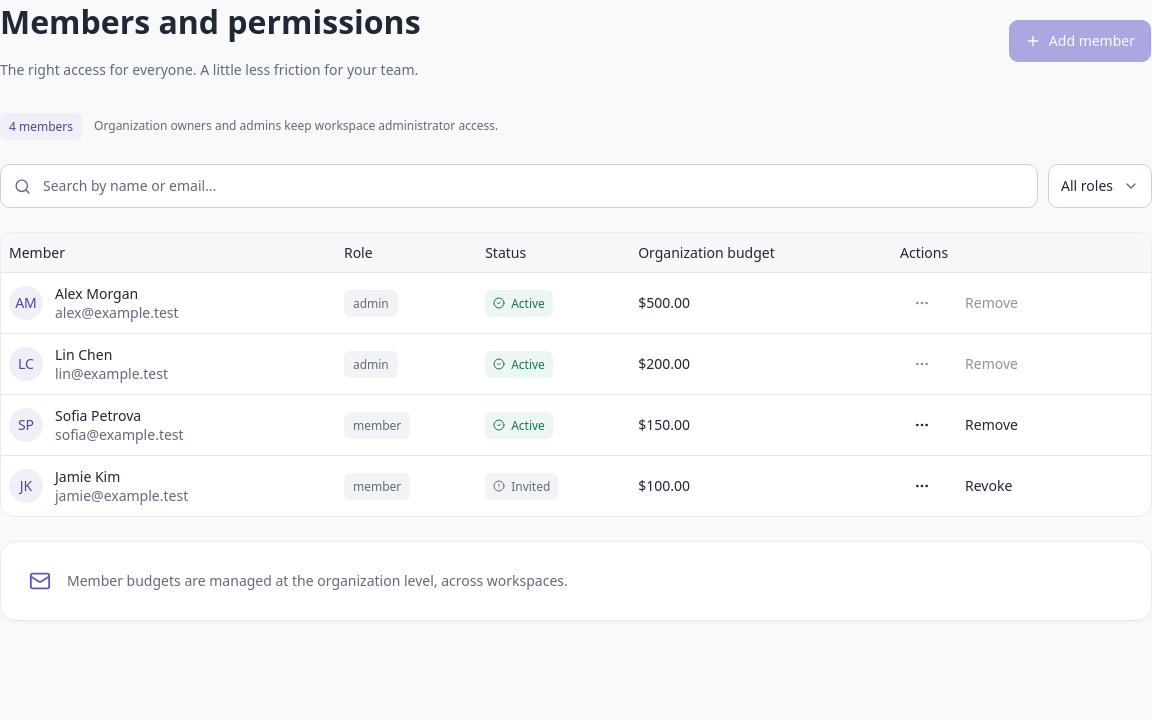
Workspace membership boundaries › editing a workspace role does not overwrite the organization role
This screenshot has width=1152, height=720.
Later steps or results of the test are not shown.
Click the button named "Edit Sofia Petrova" at (922,425), box [900,403,944,447]
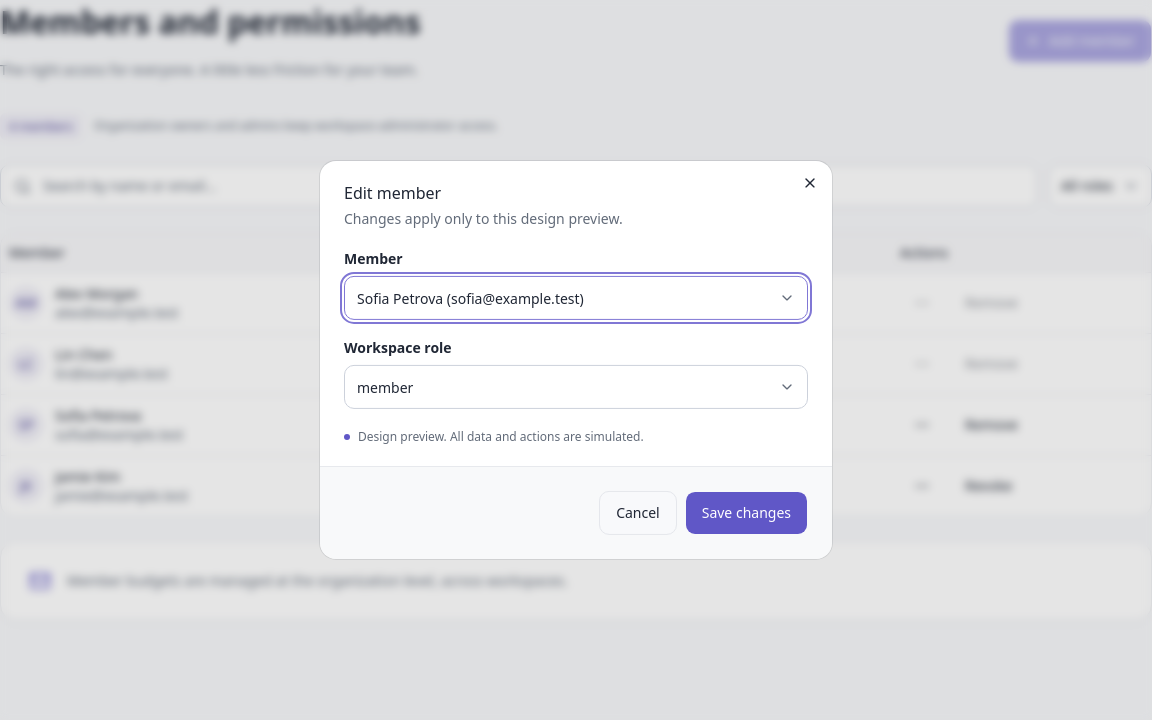
Click the dropdown named "role" at (385,387), box [344,365,808,409]
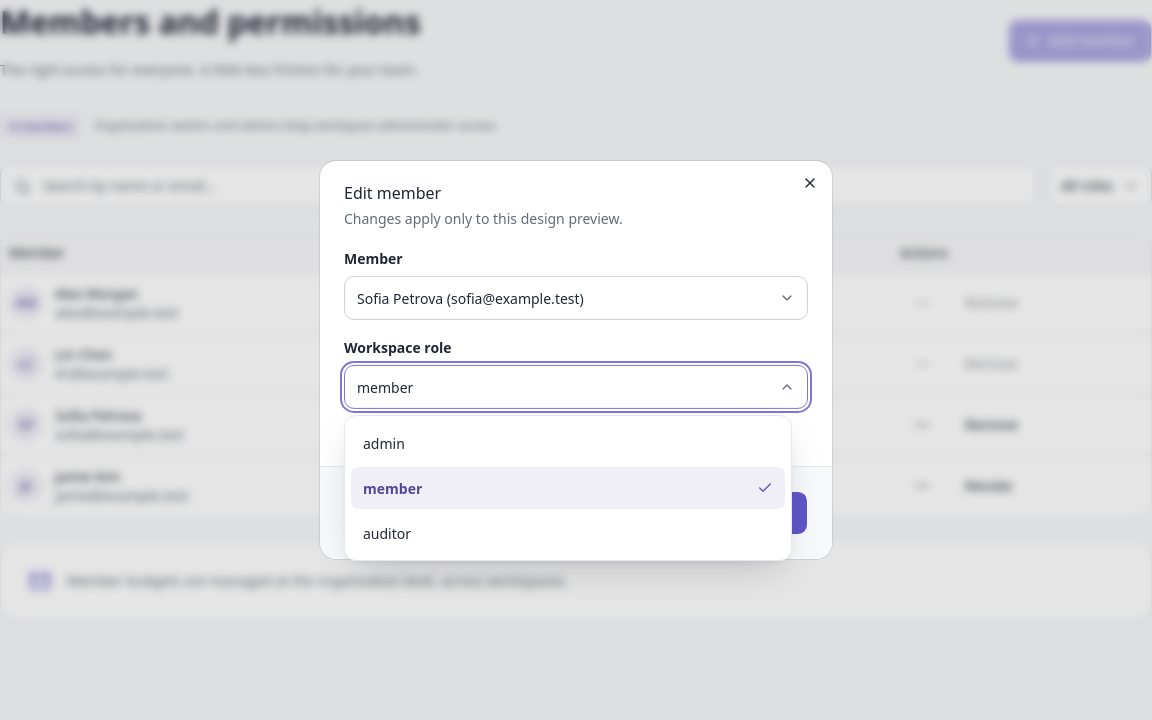
Click the option "auditor" at (387,533), box [363,524,411,542]
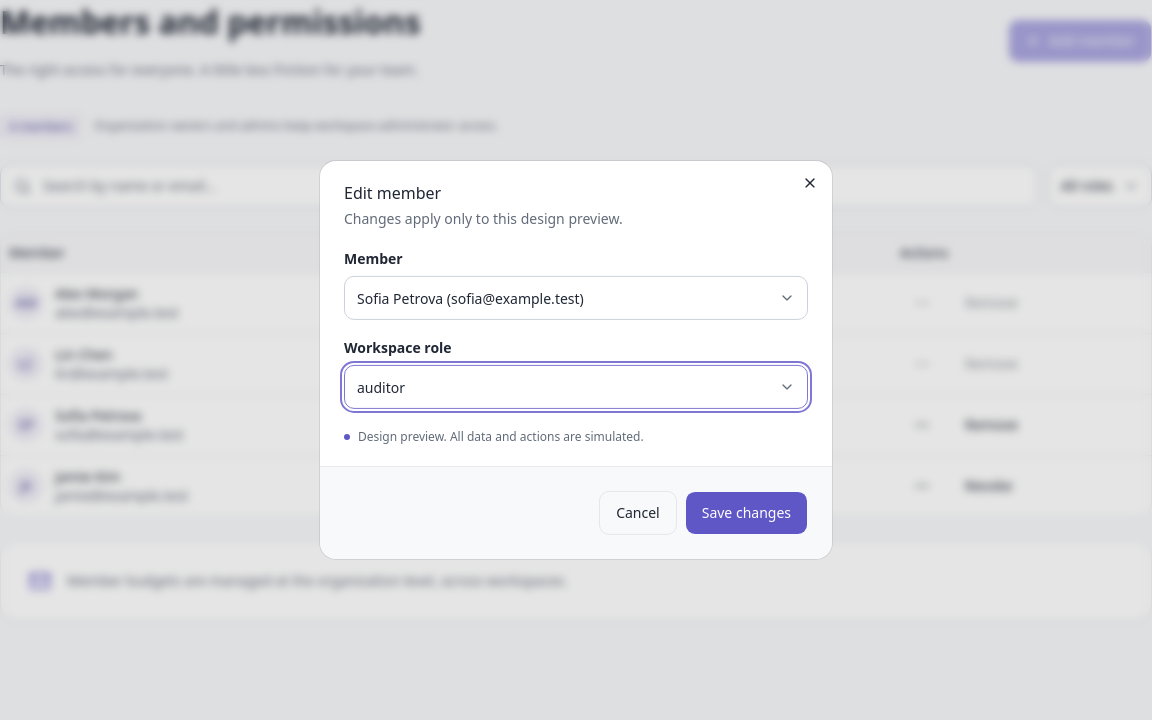
Click the button "Save changes" at (746,513), box [685,491,808,535]
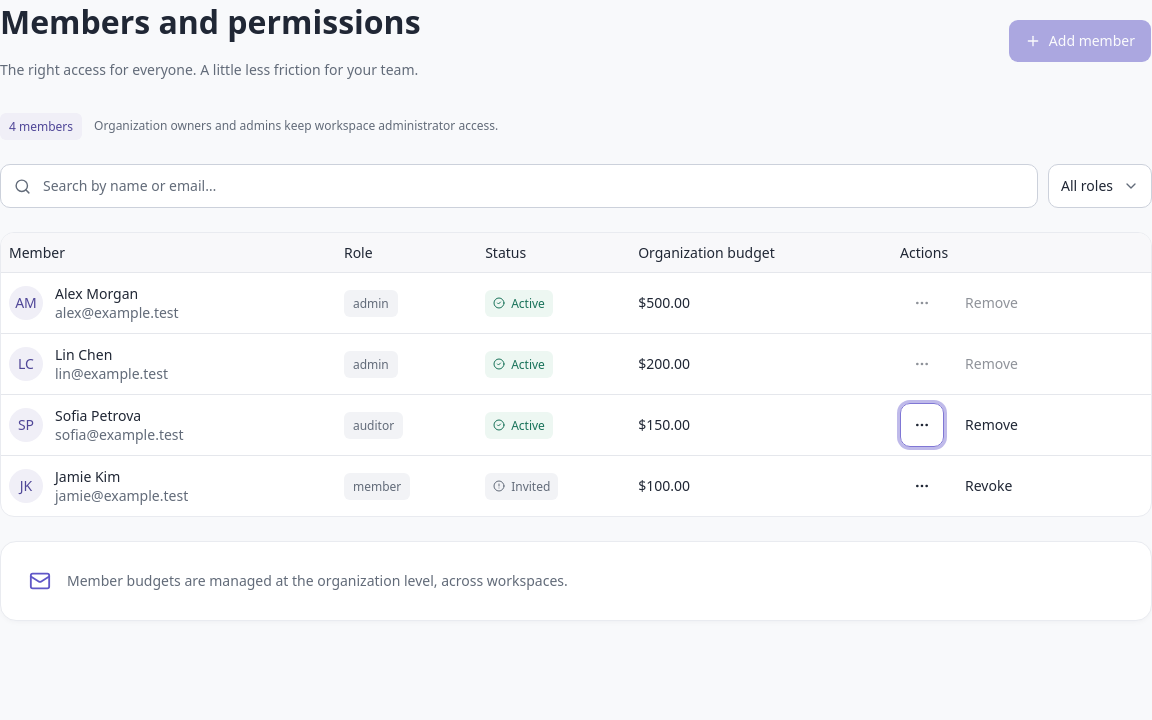
Now the dialog is gone
